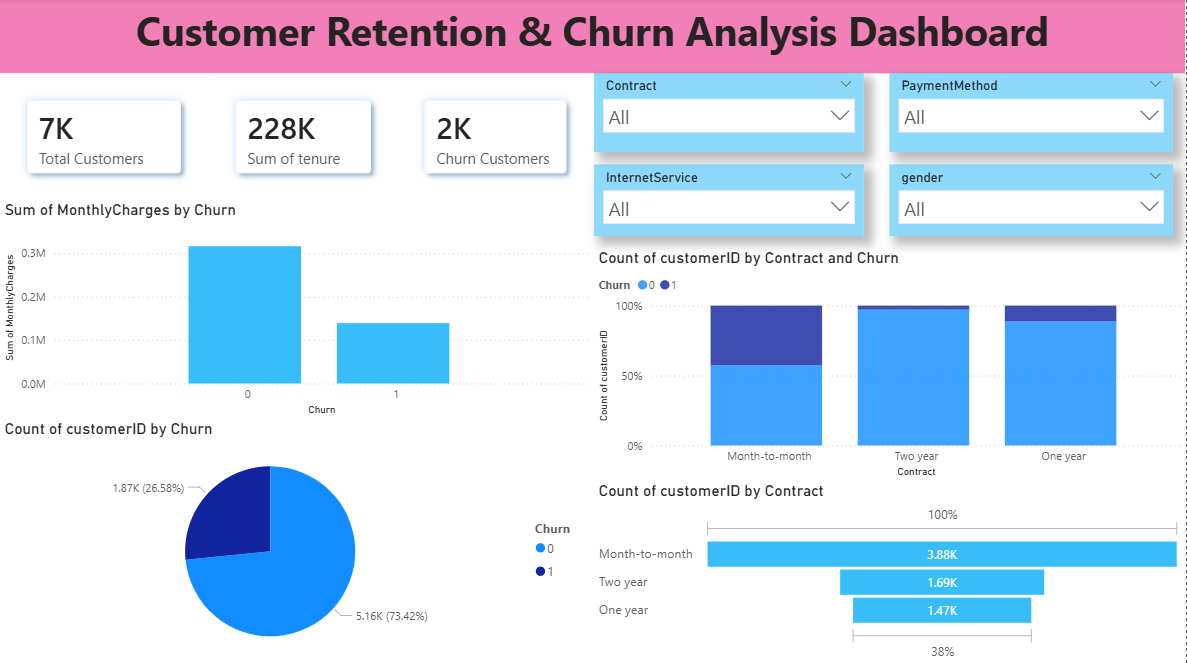

Layout of this report page (visuals, bound fields, positions):
{"tool":"powerbi","page":{"name":"Page 1","canvas":[1280,720],"ordinal":0},"visuals":[{"type":"hundredPercentStackedColumnChart","fields":{"Category":["Cleaned_Customer_Churn.Contract"],"Y":["CountNonNull(Cleaned_Customer_Churn.customerID)"],"Series":["Cleaned_Customer_Churn.Churn"]},"box":[640.6,270.2,638.7,251.3],"z":1000},{"type":"funnel","fields":{"Category":["Cleaned_Customer_Churn.Contract"],"Y":["CountNonNull(Cleaned_Customer_Churn.customerID)"]},"box":[640.6,521.6,638.7,198.4],"z":3000},{"type":"textbox","box":[0,0,1279.4,81.3],"z":3001},{"type":"cardVisual","fields":{"Data":["Cleaned_Customer_Churn.Total Customers"]},"box":[0,81.3,224.9,138],"z":3002},{"type":"cardVisual","fields":{"Data":["Sum(Cleaned_Customer_Churn.tenure)"]},"box":[224.9,81.3,204.1,138],"z":3003},{"type":"slicer","fields":{"Values":["Cleaned_Customer_Churn.Contract"]},"box":[640.6,81.3,291,85],"z":3004},{"type":"cardVisual","fields":{"Data":["Cleaned_Customer_Churn.Churn Customers"]},"box":[429,81.3,211.7,138],"z":3005},{"type":"columnChart","fields":{"Y":["Sum(Cleaned_Customer_Churn.MonthlyCharges)"],"Category":["Cleaned_Customer_Churn.Churn"]},"box":[0,219.2,640.6,236.2],"z":3006},{"type":"slicer","fields":{"Values":["Cleaned_Customer_Churn.PaymentMethod"]},"box":[960,81.3,306.1,85],"z":3007},{"type":"slicer","fields":{"Values":["Cleaned_Customer_Churn.gender"]},"box":[960,179.5,306.1,77.5],"z":3008},{"type":"slicer","fields":{"Values":["Cleaned_Customer_Churn.InternetService"]},"box":[640.6,179.5,291,77.5],"z":3009},{"type":"pieChart","fields":{"Category":["Cleaned_Customer_Churn.Churn"],"Y":["CountNonNull(Cleaned_Customer_Churn.customerID)"]},"box":[0,455.4,640.6,264.6],"z":3010}]}

Visuals, with their boxes in screenshot pixels (x1, y1, x2, y2), scaled from the page's 1280x720 canvas onto the 1187x663 screenshot:
hundredPercentStackedColumnChart - Cleaned_Customer_Churn.Contract x CountNonNull(Cleaned_Customer_Churn.customerID): bbox=[594, 249, 1186, 480]
funnel - Cleaned_Customer_Churn.Contract x CountNonNull(Cleaned_Customer_Churn.customerID): bbox=[594, 480, 1186, 662]
textbox: bbox=[0, 0, 1186, 75]
cardVisual - Cleaned_Customer_Churn.Total Customers: bbox=[0, 75, 209, 202]
cardVisual - Sum(Cleaned_Customer_Churn.tenure): bbox=[209, 75, 398, 202]
slicer - Cleaned_Customer_Churn.Contract: bbox=[594, 75, 864, 153]
cardVisual - Cleaned_Customer_Churn.Churn Customers: bbox=[398, 75, 594, 202]
columnChart - Sum(Cleaned_Customer_Churn.MonthlyCharges) x Cleaned_Customer_Churn.Churn: bbox=[0, 202, 594, 419]
slicer - Cleaned_Customer_Churn.PaymentMethod: bbox=[890, 75, 1174, 153]
slicer - Cleaned_Customer_Churn.gender: bbox=[890, 165, 1174, 237]
slicer - Cleaned_Customer_Churn.InternetService: bbox=[594, 165, 864, 237]
pieChart - Cleaned_Customer_Churn.Churn x CountNonNull(Cleaned_Customer_Churn.customerID): bbox=[0, 419, 594, 662]
